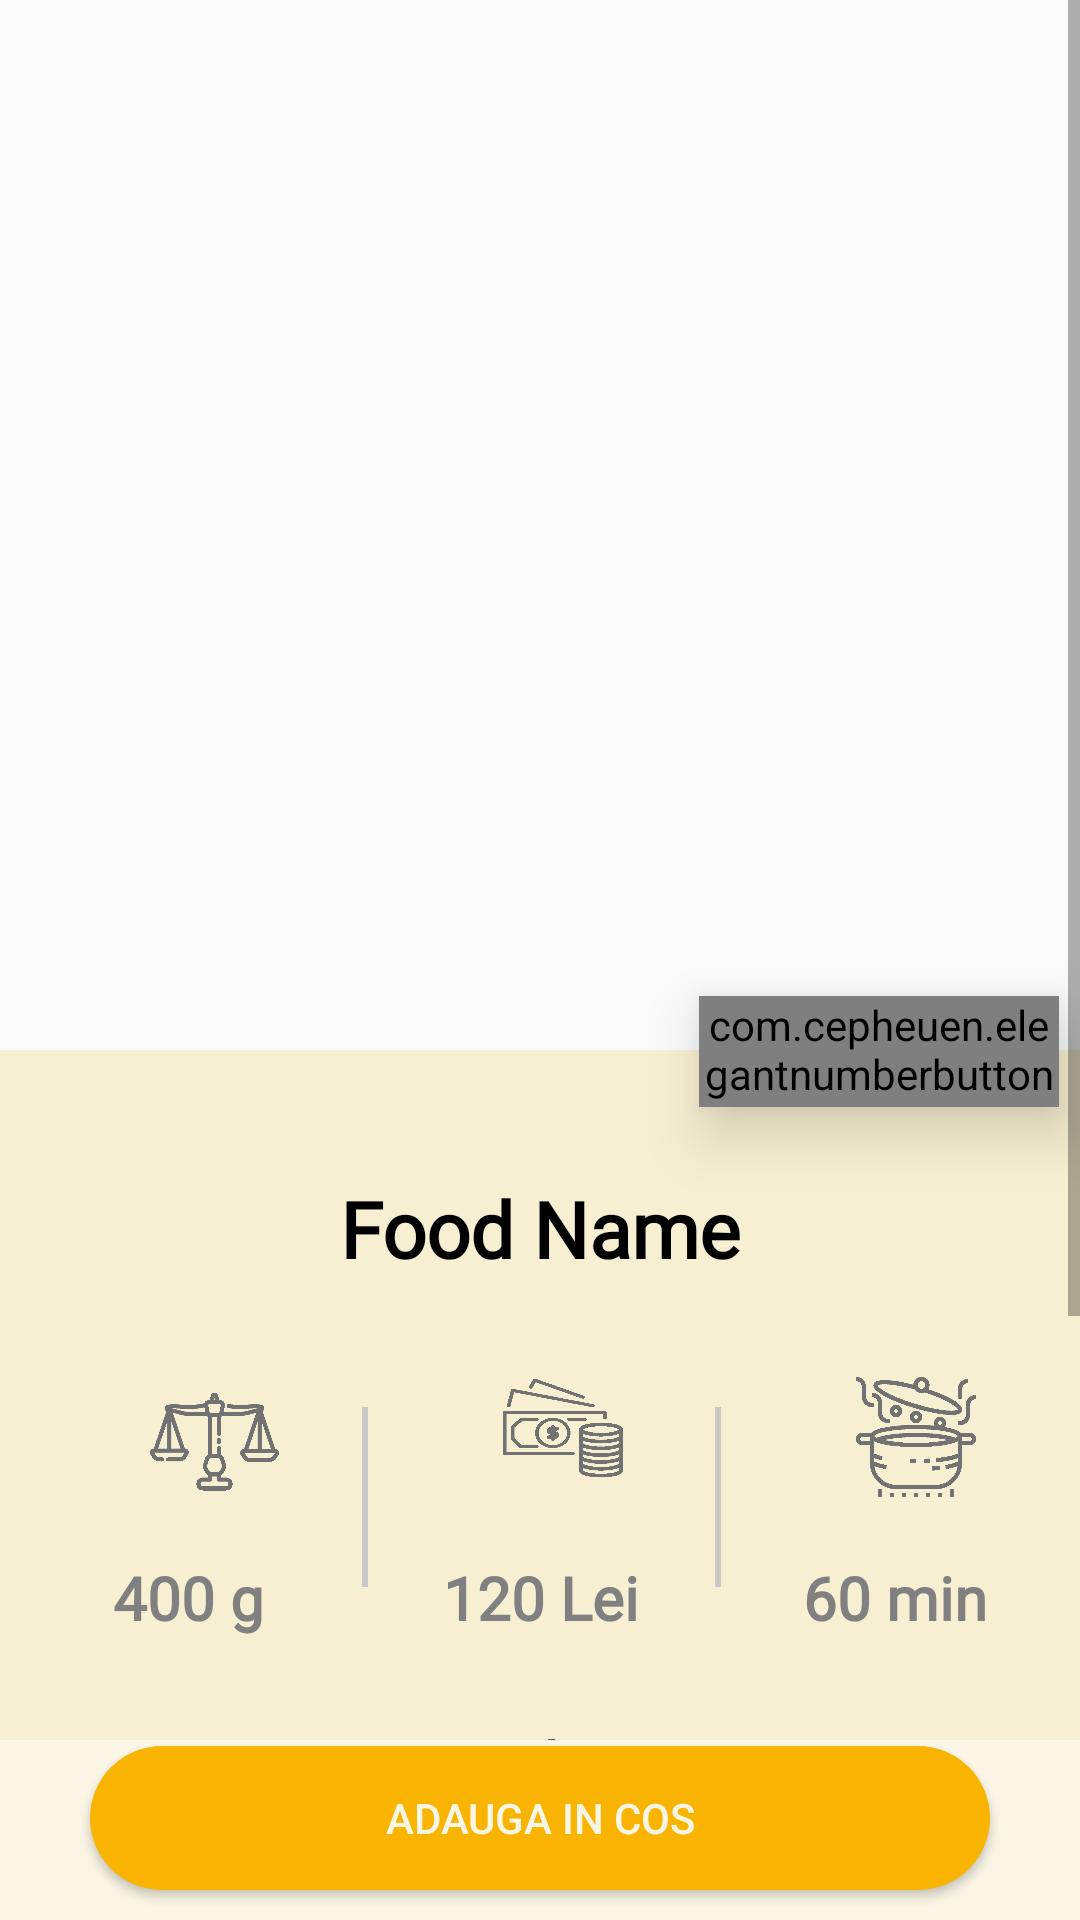

Named icons in this screenshot (1080 x 1920) and their bounding boxes, (x1,y1,x2,y2):
cooking time: (856,1377,976,1497)
libra: (150,1393,279,1491)
money: (503,1379,623,1477)
